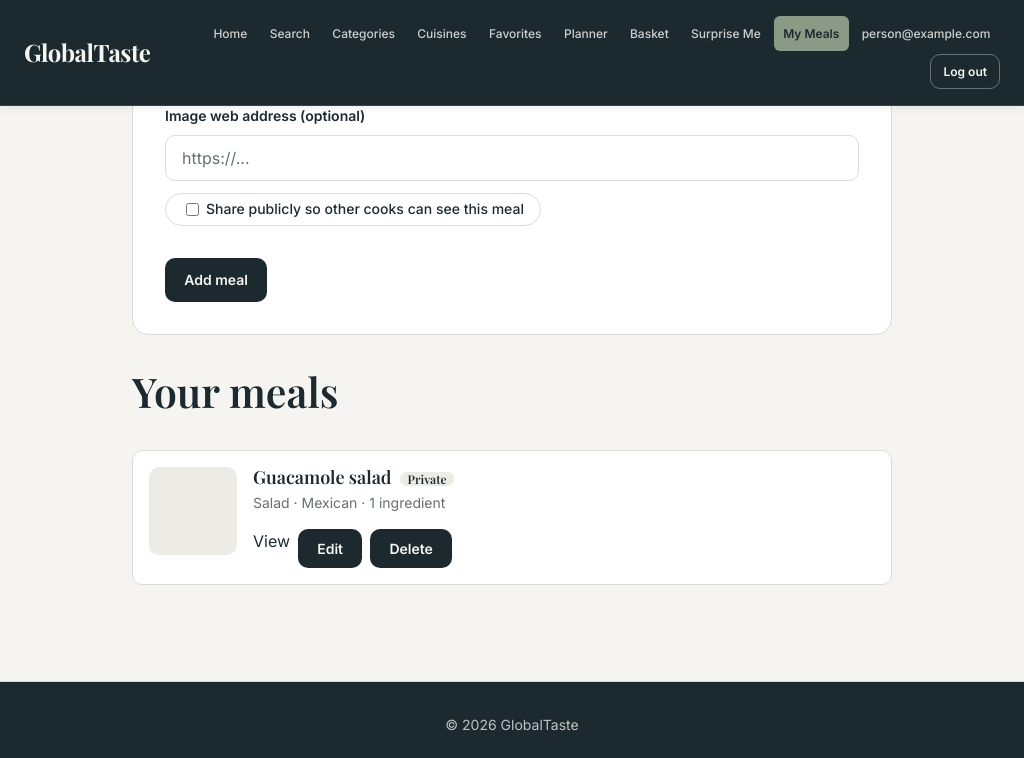
Scenario: my meals page › asks for confirmation before deleting a meal
(page scrolled)
Click the button "Delete": (411, 548) [370,529,452,568]
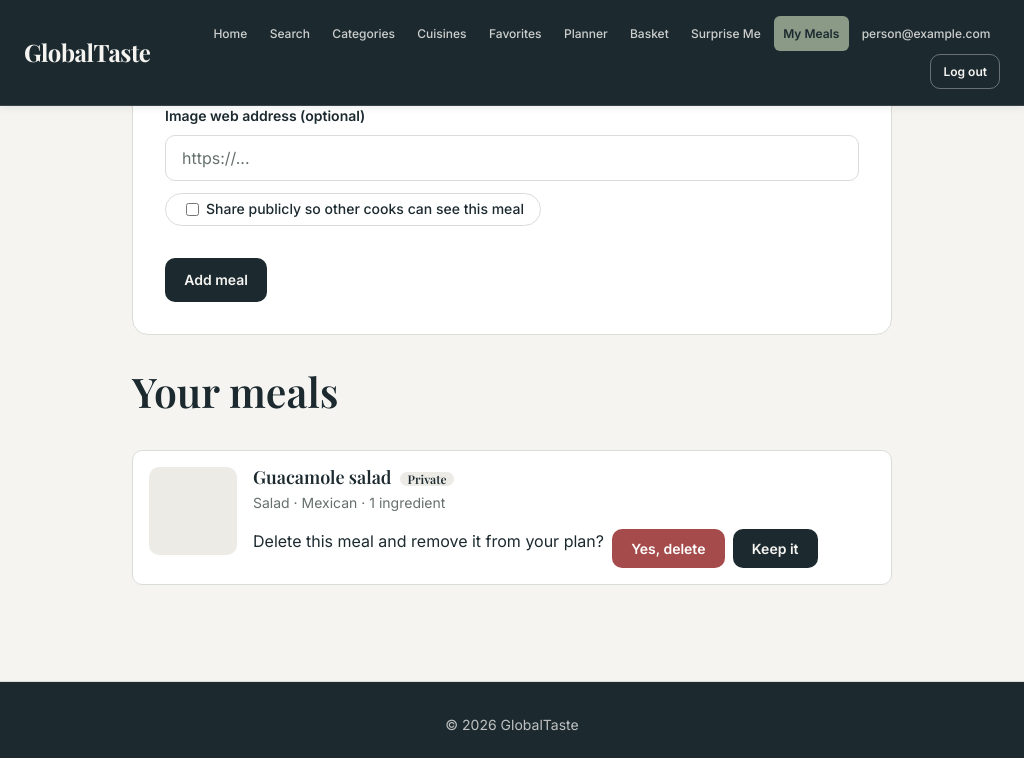
Click the button "Yes, delete": (668, 548) [612,529,725,568]
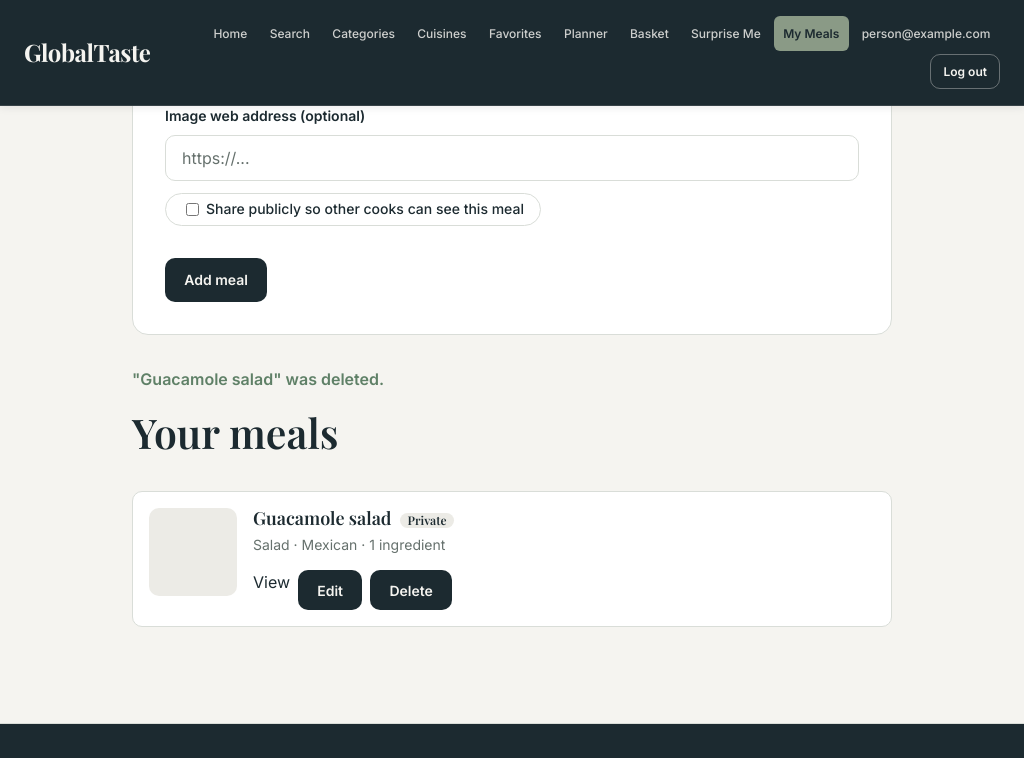
Now the text "\"Guacamole salad\" was deleted." is shown, box [132,369,384,389]
